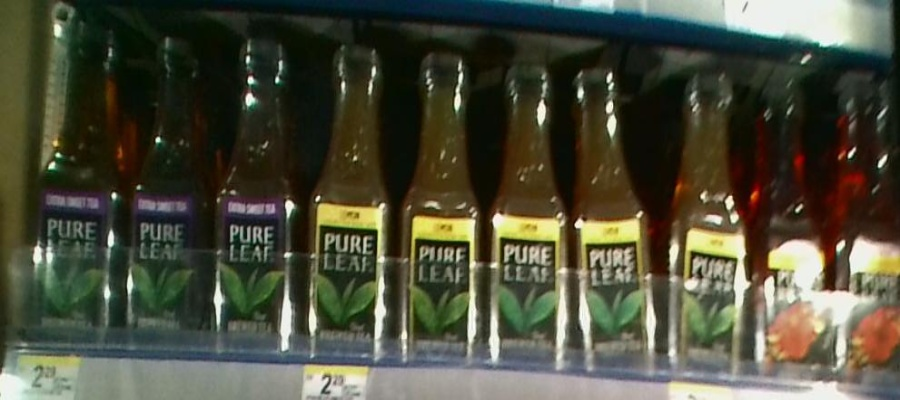bottle: (214, 11, 301, 358), (39, 13, 125, 350), (401, 30, 485, 373), (307, 38, 393, 364), (130, 21, 212, 349), (574, 56, 659, 370), (668, 66, 751, 380), (492, 51, 569, 373), (754, 86, 832, 375), (835, 69, 899, 381)
